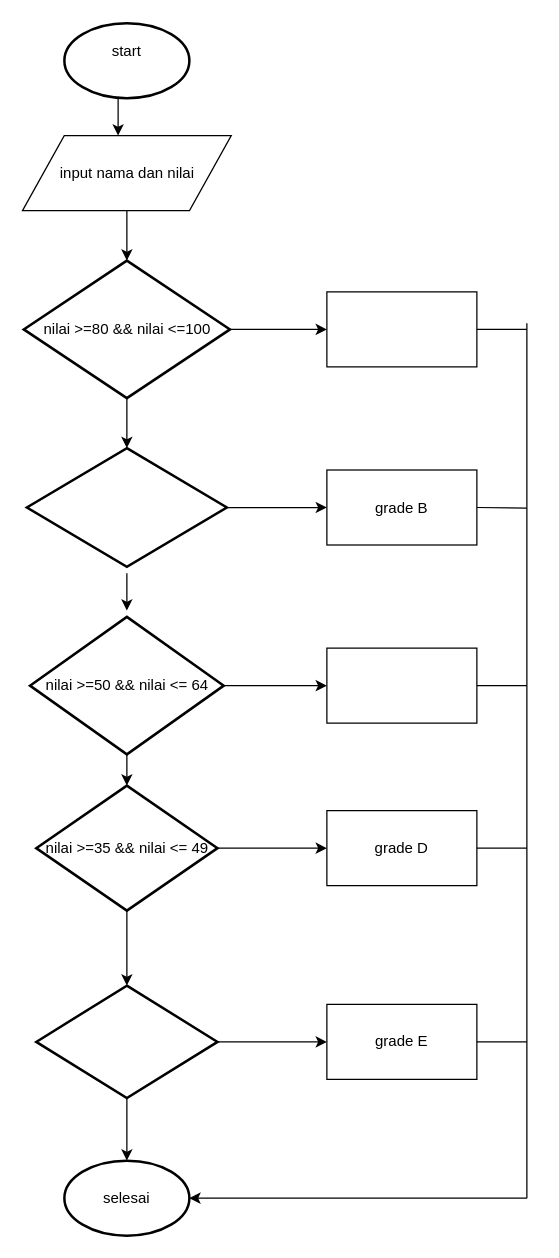
The diagram is 559 pixels wide and 1258 high, and some of its shapes have lost their labels. The centre of each missing label's shape, as x and y in pixels:
"grade A" goes at (x=401, y=329).
"grade C" goes at (x=401, y=685).
"nilai >=0 && nilai <= 34" goes at (x=126, y=1041).
"nilai >=65 && nilai <=79" goes at (x=126, y=507).
